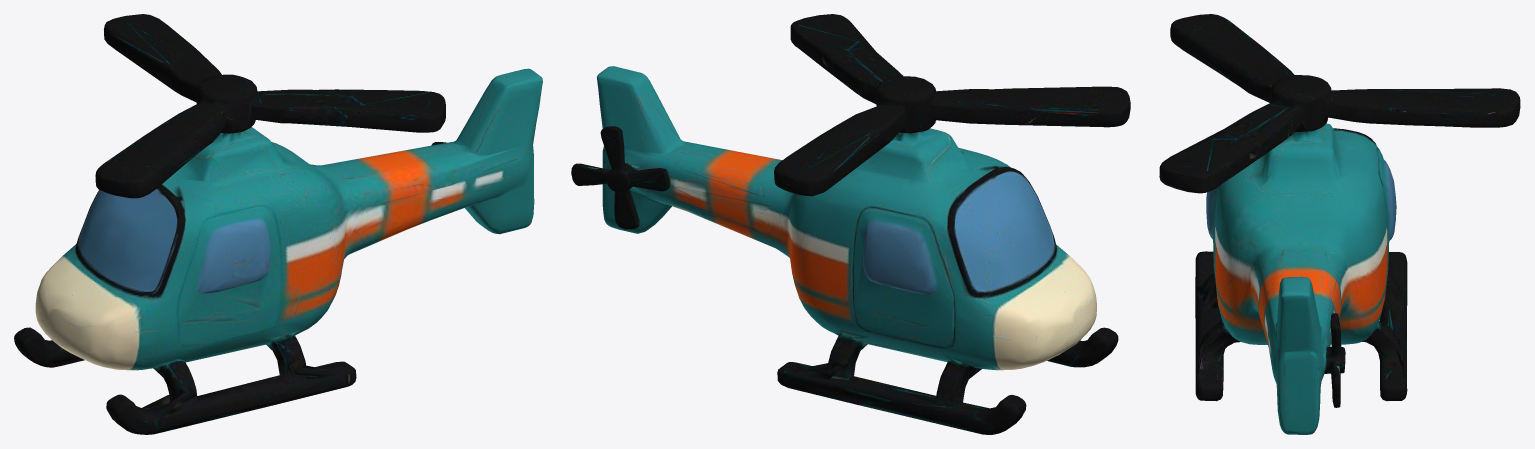
Rendered from helicopter-512.glb.
3 renders of one model, left to right at view 1: azimuth 30°, elevation 25°; view 2: azimuth 150°, elevation 25°; view 3: azimuth 270°, elevation 25°, orthographic.
Bounding box in the file's own units: 1.9 × 1.04 × 1.21.
1 material, 1 textured.
